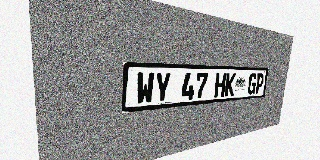4: (181, 73, 196, 101)
7: (194, 73, 208, 99)
G: (247, 73, 257, 94)
H: (214, 73, 226, 98)
K: (224, 73, 236, 97)
P: (255, 73, 264, 94)
W: (136, 72, 155, 105)
Y: (154, 72, 171, 103)
